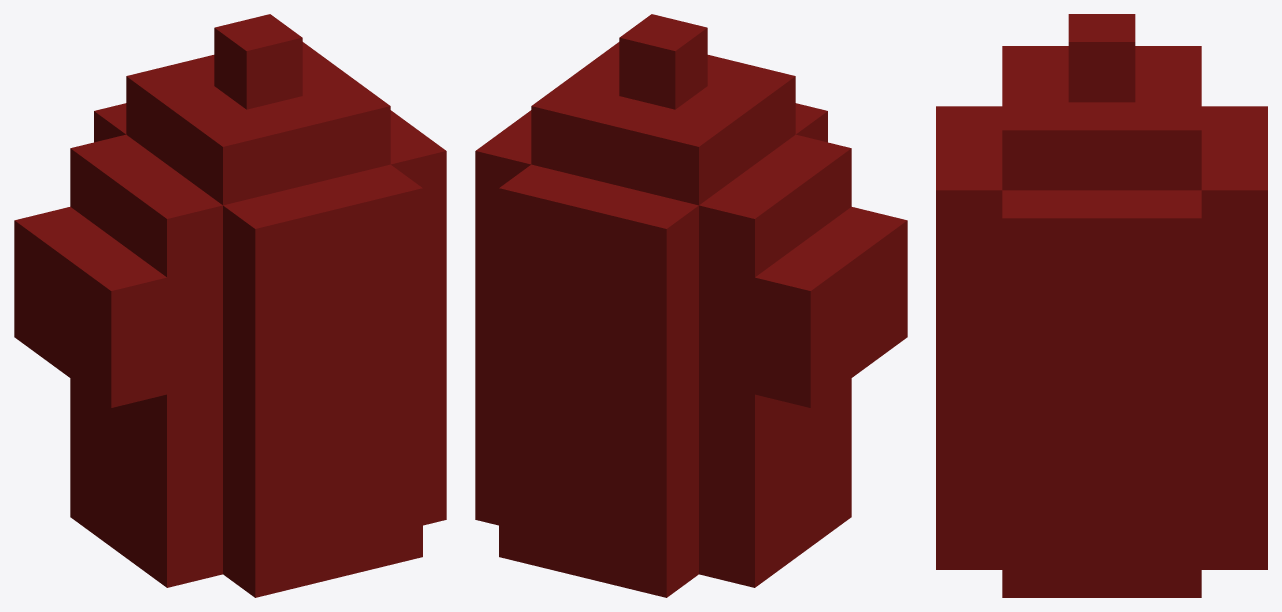
The model's file is FireHydrant_Mesh_001.fbx.
3 renders of one model, left to right at view 1: azimuth 30°, elevation 25°; view 2: azimuth 150°, elevation 25°; view 3: azimuth 270°, elevation 25°, orthographic. The views are drawn at different scales.
Parts seen in each view (by area): view 1: FireHydrant_001; view 2: FireHydrant_001; view 3: FireHydrant_001.
Boxes of the visible parts, x1,y1,x2,y2 form: FireHydrant_001: [14, 14, 446, 597]; FireHydrant_001: [475, 14, 907, 597]; FireHydrant_001: [936, 14, 1267, 597].
Bounding box in the file's own units: 0.6 × 0.8309 × 0.5.
